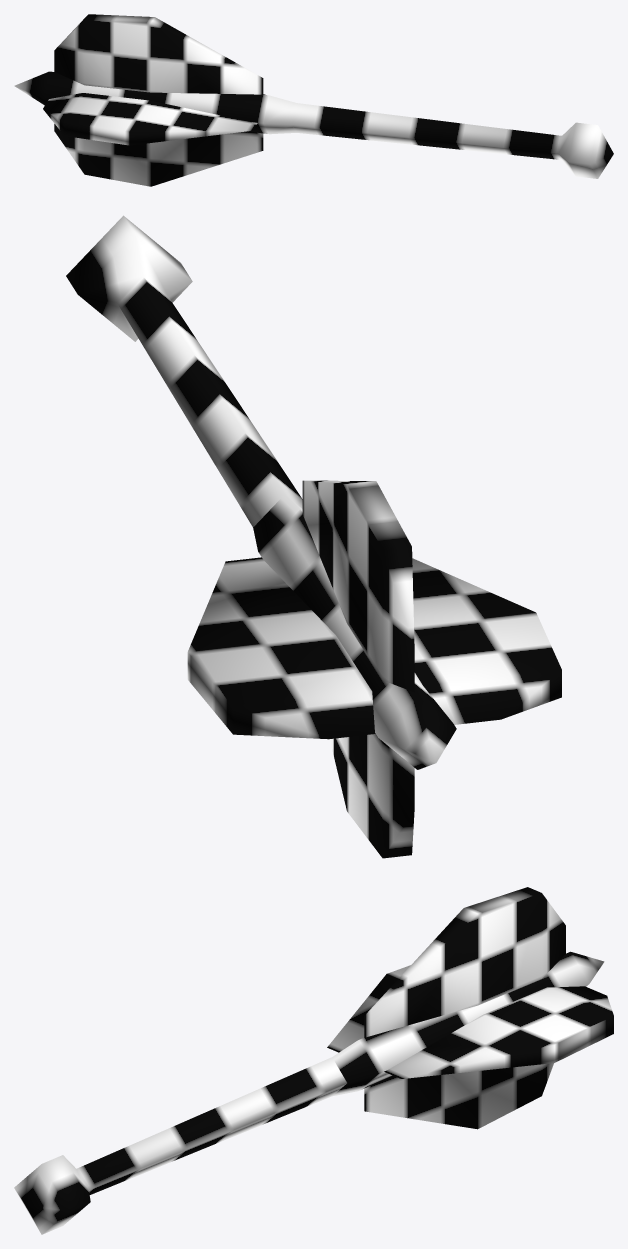
Rendered from initwehm5.dae.
3 views of the same model, one above another, from view 1: azimuth 30°, elevation 25°; view 2: azimuth 150°, elevation 25°; view 3: azimuth 270°, elevation 25° (orthographic). The views are drawn at different scales.
Visible parts, largest first — view 1: weapon; view 2: weapon; view 3: weapon.
Boxes of the visible parts, box(x1,y1,x2,y2) form: weapon: box(14, 14, 613, 186); weapon: box(66, 215, 561, 858); weapon: box(14, 887, 613, 1234).
Size of the model in its own units: 1.77 by 1.77 by 0.7012.
1 material, 1 textured.
